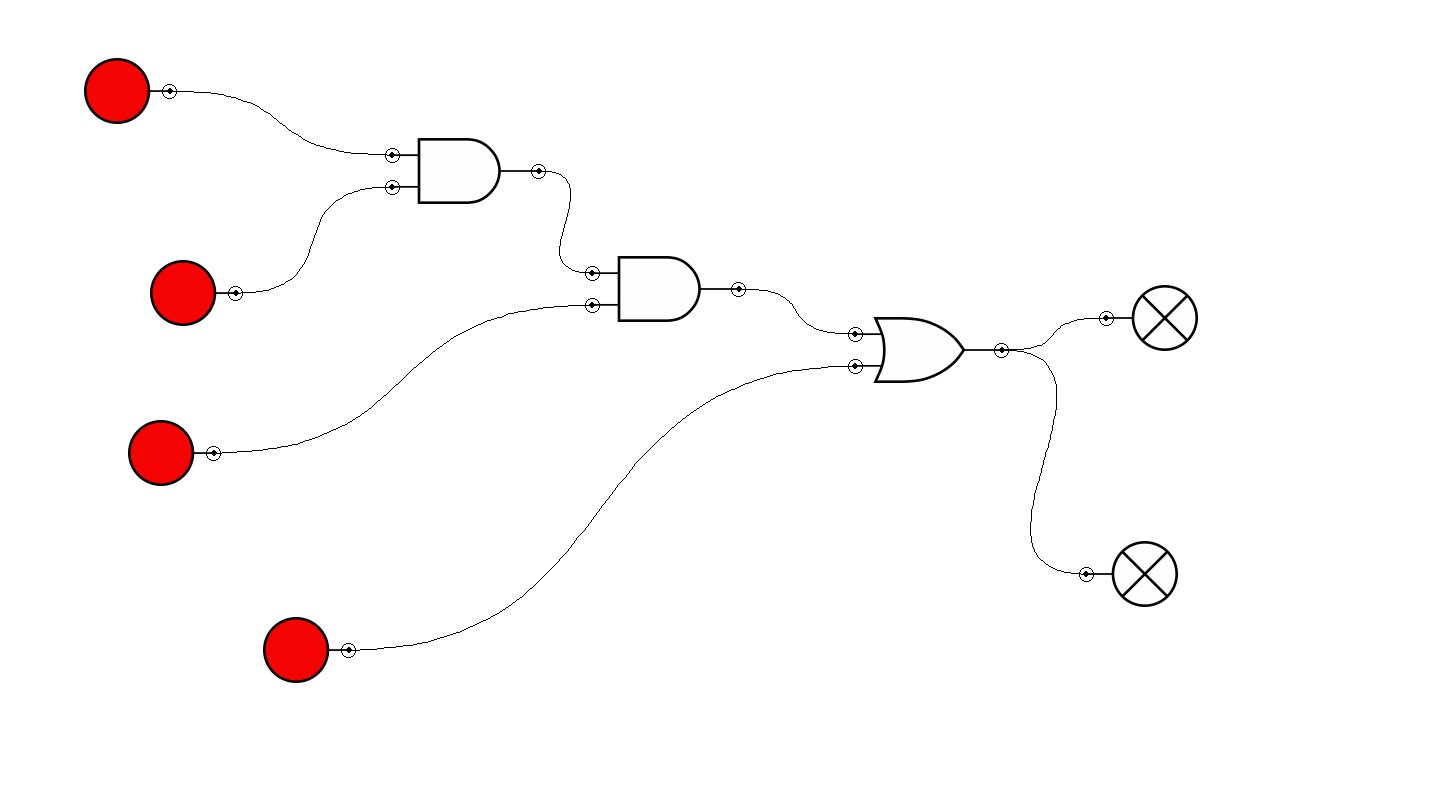and: (385, 138, 546, 204), (585, 256, 746, 322)
bulb: (1079, 541, 1178, 607), (1099, 285, 1198, 351)
or: (848, 317, 1009, 383)
switch_False: (84, 58, 177, 124), (263, 617, 356, 683), (128, 420, 221, 486), (150, 260, 243, 326)
